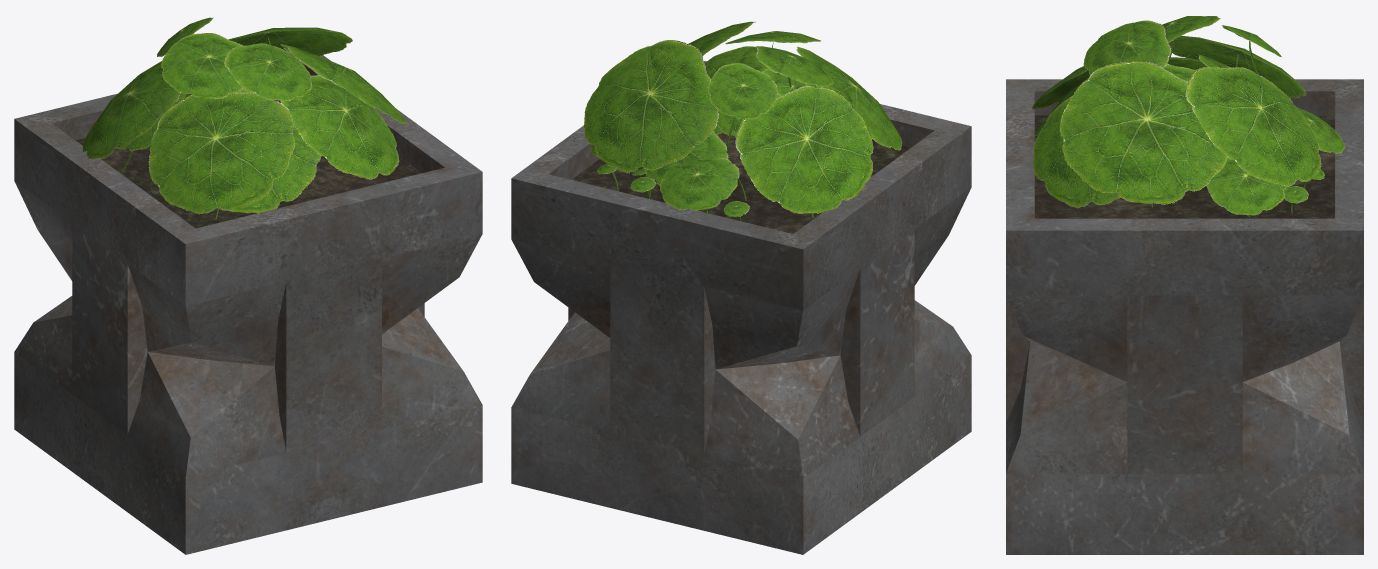
Rendered from plantpot.fbx.
3 renders of one model, left to right at view 1: azimuth 30°, elevation 25°; view 2: azimuth 150°, elevation 25°; view 3: azimuth 270°, elevation 25°, orthographic. The views are drawn at different scales.
Visible parts, largest first — view 1: Cube, BezierCurve; view 2: Cube, BezierCurve; view 3: Cube, BezierCurve.
Part boxes in pixels (x1,y1,x2,y2): Cube: [14, 55, 482, 554]; BezierCurve: [82, 17, 408, 219]; Cube: [511, 61, 971, 554]; BezierCurve: [583, 21, 902, 220]; Cube: [1006, 79, 1363, 554]; BezierCurve: [1032, 16, 1345, 218].
Bounding box in the file's own units: 144 × 196 × 146.
Materials: 2 (2 with a texture image).
